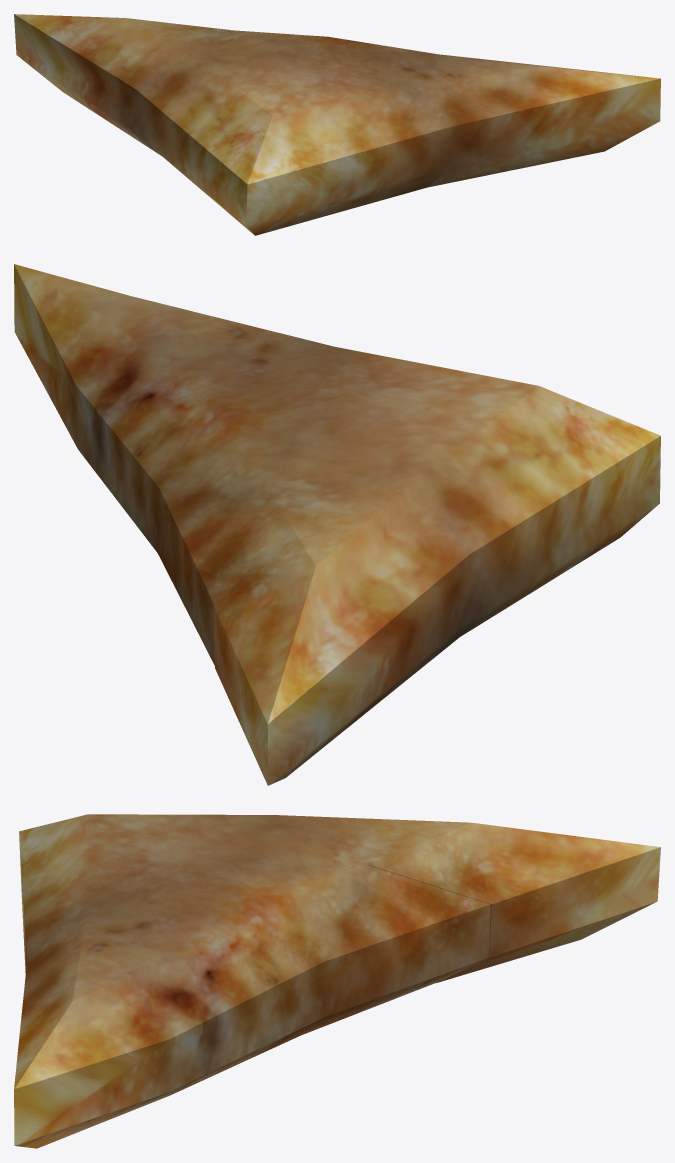
Rendered from MeatPies_4half.fbx.
The picture shows the model from 3 angles, top to bottom: view 1: azimuth 30°, elevation 25°; view 2: azimuth 150°, elevation 25°; view 3: azimuth 270°, elevation 25°; orthographic projection. The views are drawn at different scales.
Visible parts, largest first — view 1: half1, half2; view 2: half1, half2; view 3: half2, half1.
Boxes of the visible parts, <box> form: half1: <box>14,14,451,235</box>; half2: <box>232,30,660,187</box>; half1: <box>214,347,660,785</box>; half2: <box>14,264,334,665</box>; half2: <box>14,865,490,1148</box>; half1: <box>19,814,660,982</box>.
Size of the model in its own units: 0.2301 by 0.0575 by 0.2353.
